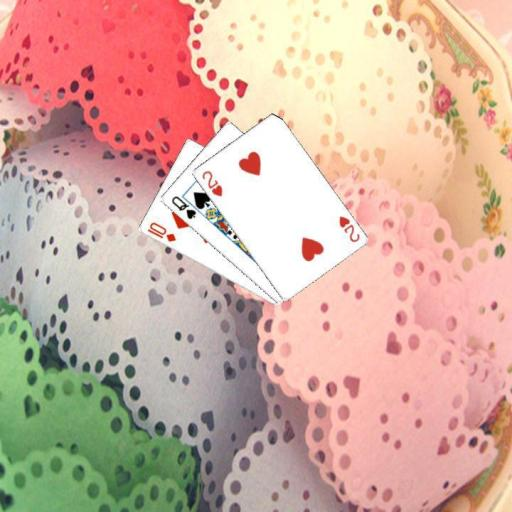card-corner: (168, 193, 198, 220), (198, 167, 224, 198), (144, 219, 177, 243), (336, 213, 361, 244)
